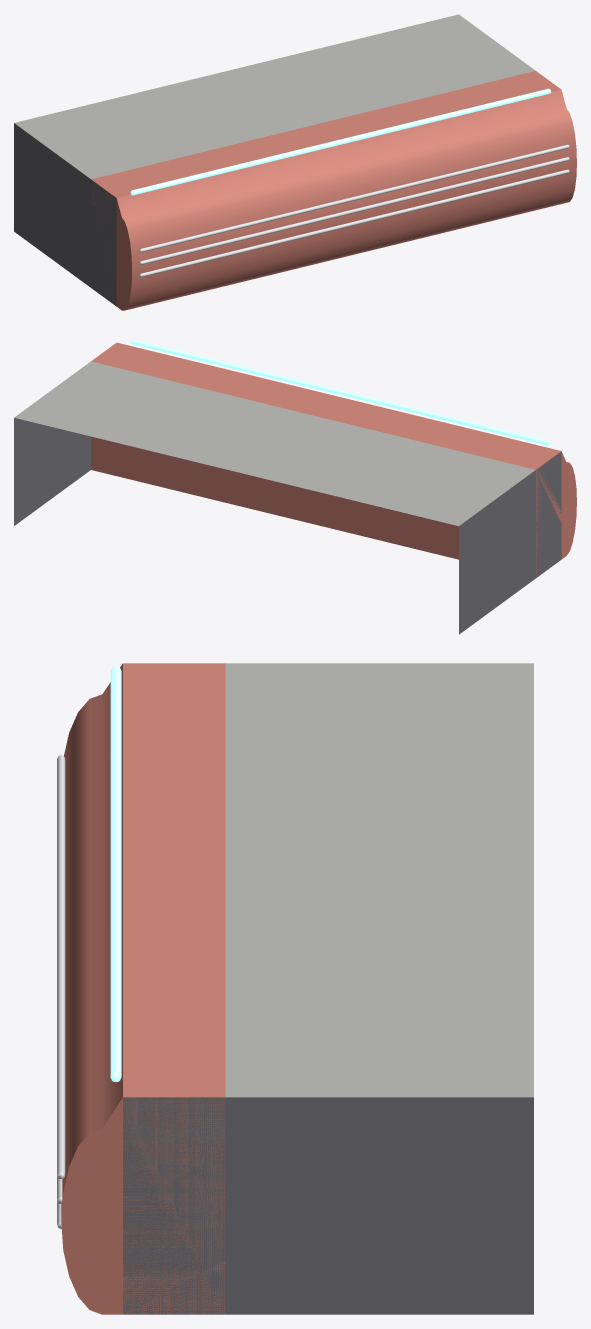
The model's file is retro_cap_band_3.glb.
3 renders of one model, top to bottom at view 1: azimuth 30°, elevation 25°; view 2: azimuth 150°, elevation 25°; view 3: azimuth 270°, elevation 25°, orthographic. The views are drawn at different scales.
Visible parts, largest first — view 1: retro_cap_band_3; view 2: retro_cap_band_3; view 3: retro_cap_band_3.
Boxes of the visible parts, x1,y1,x2,y2 form: retro_cap_band_3: [14, 14, 576, 310]; retro_cap_band_3: [14, 339, 576, 634]; retro_cap_band_3: [57, 663, 533, 1314].
Bounding box in the file's own units: 3 × 0.7368 × 1.39.
